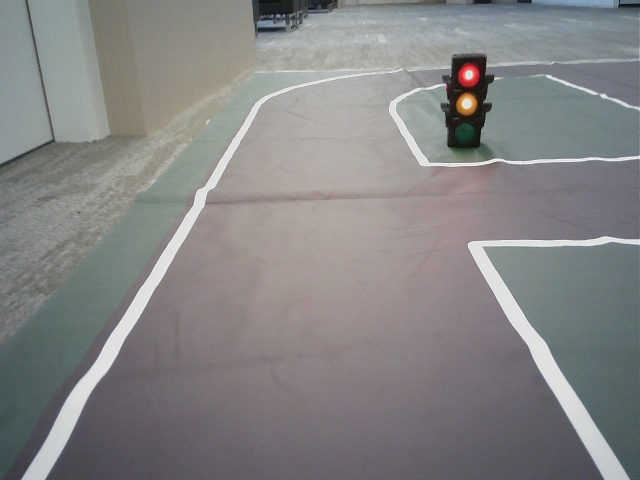red: (451, 57, 479, 142)
